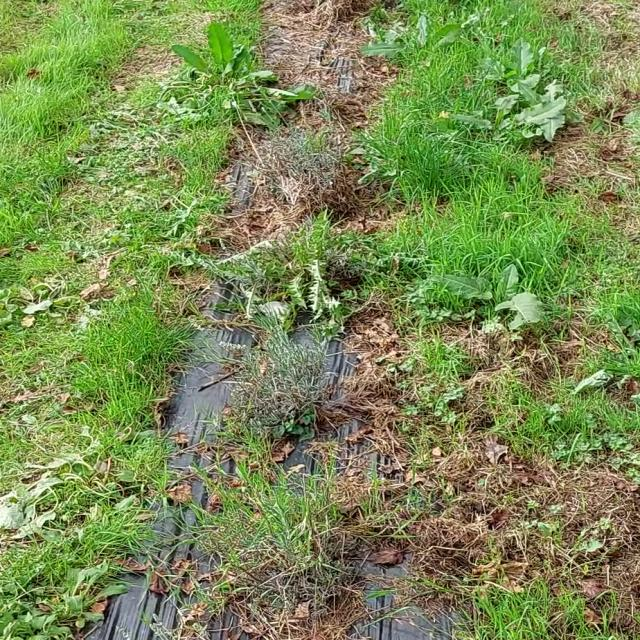organic waste: (146, 28, 316, 118), (453, 80, 624, 161), (432, 258, 562, 337), (462, 28, 568, 111), (344, 0, 466, 68), (0, 463, 104, 537), (6, 276, 112, 344)
